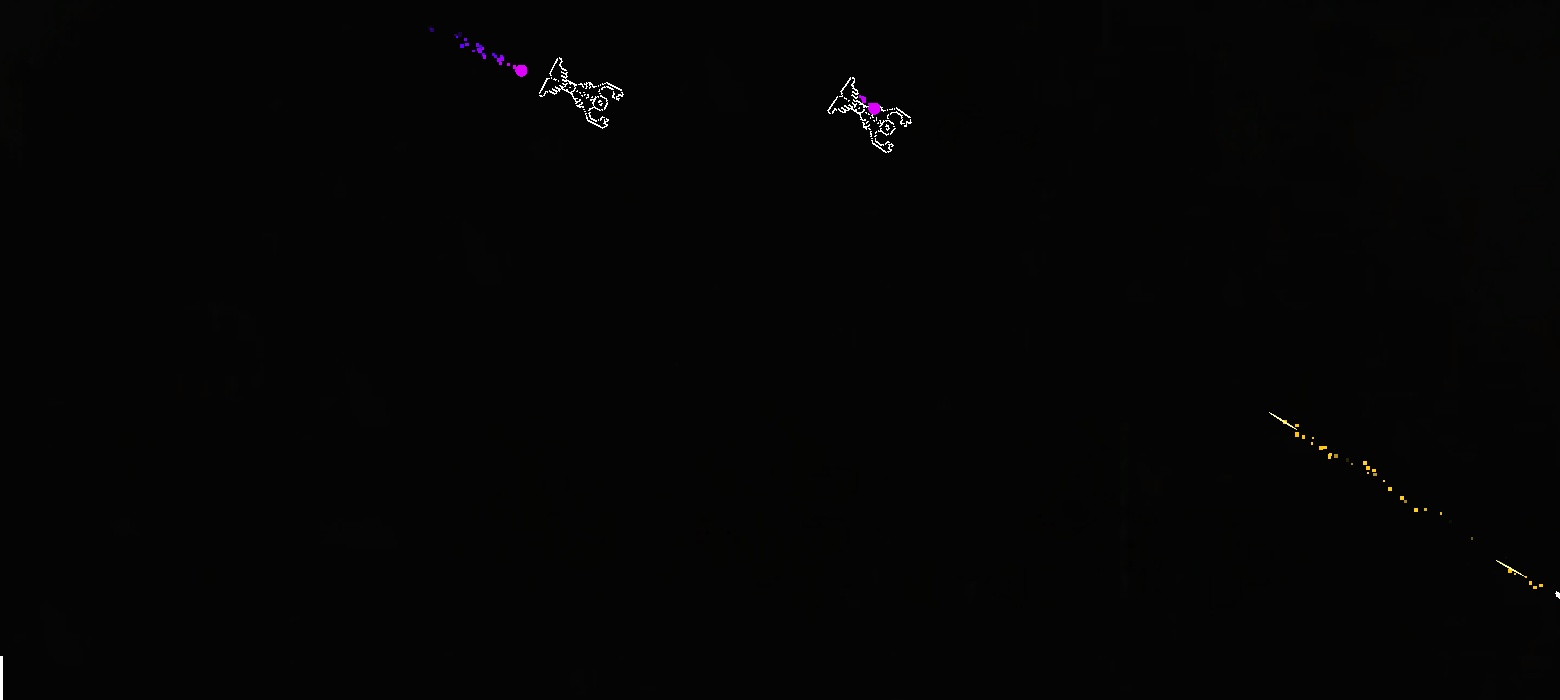enemy: (827, 76, 912, 153), (538, 57, 624, 129)
